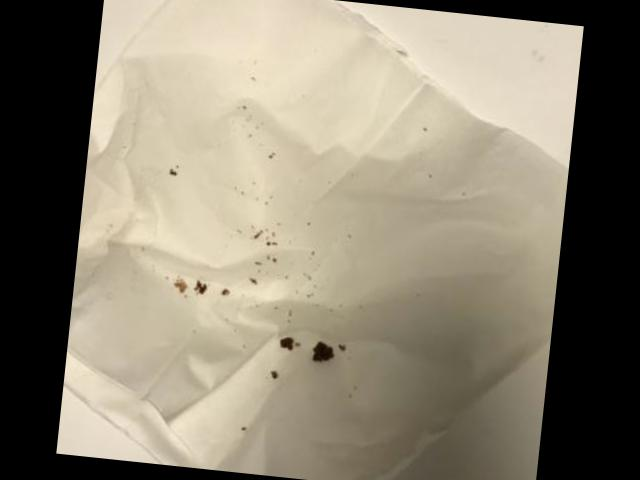cardboard paper: (64, 0, 567, 480)
